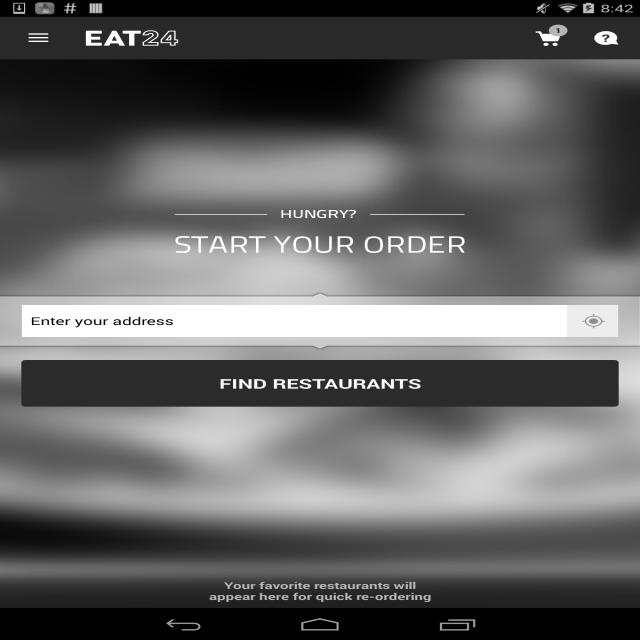Button: (22, 305, 567, 337)
ImageButton: (9, 17, 68, 59)
ImageView: (175, 210, 465, 253), (86, 30, 180, 46), (531, 27, 568, 49)
TextView: (0, 559, 640, 603), (34, 360, 606, 407), (580, 22, 632, 54), (549, 25, 567, 36)
